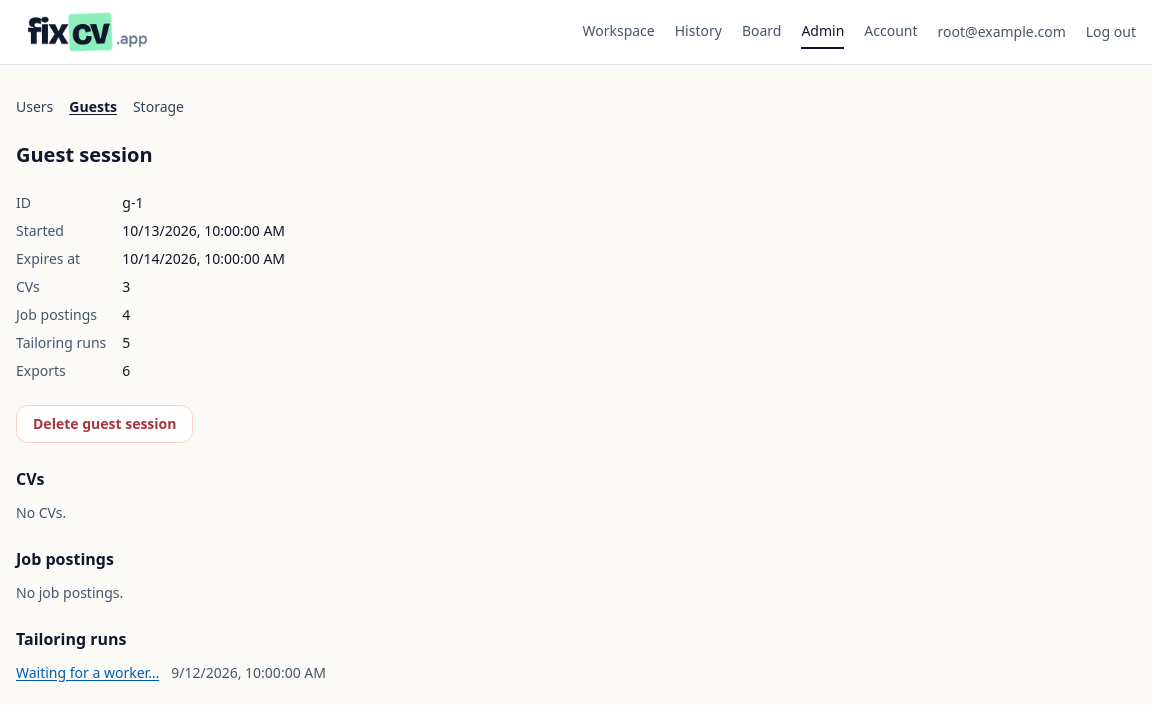
delete a guest session — AC-34 › a queued or running run adds "a run still in progress is discarded"
Step 1. Click the button "Delete guest session" → (105, 424), box [16, 405, 194, 443]
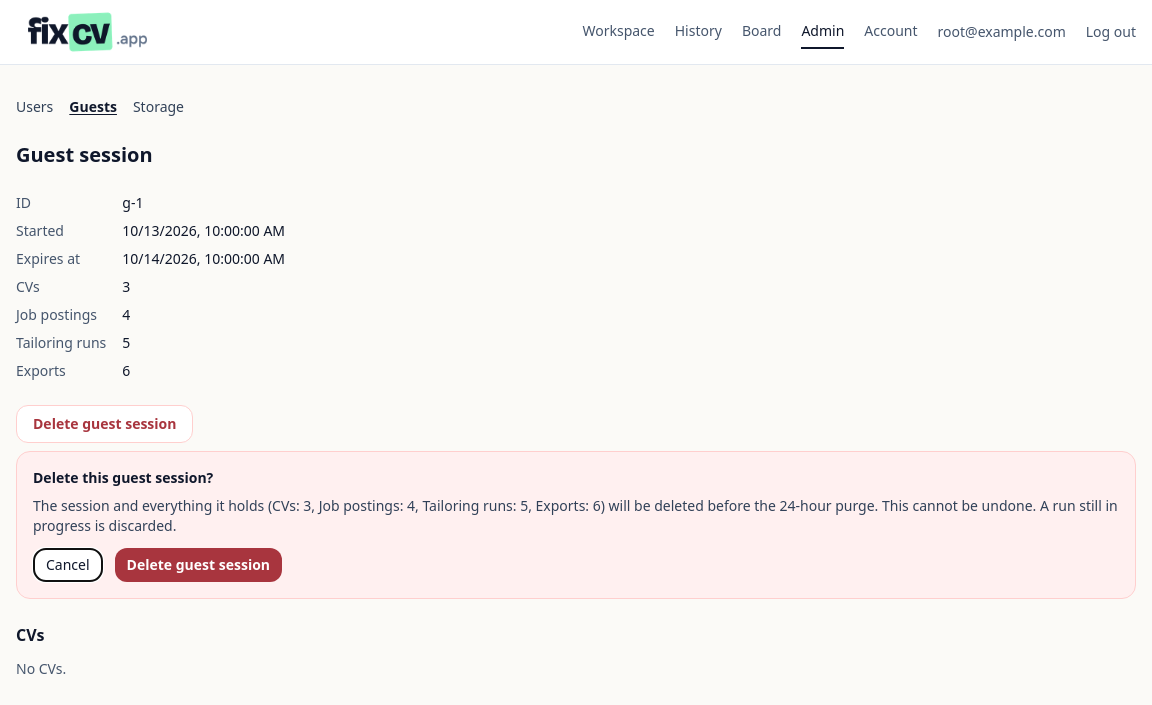
Now the dialog shows "a run still in progress is discarded", box [33, 496, 1118, 535]
